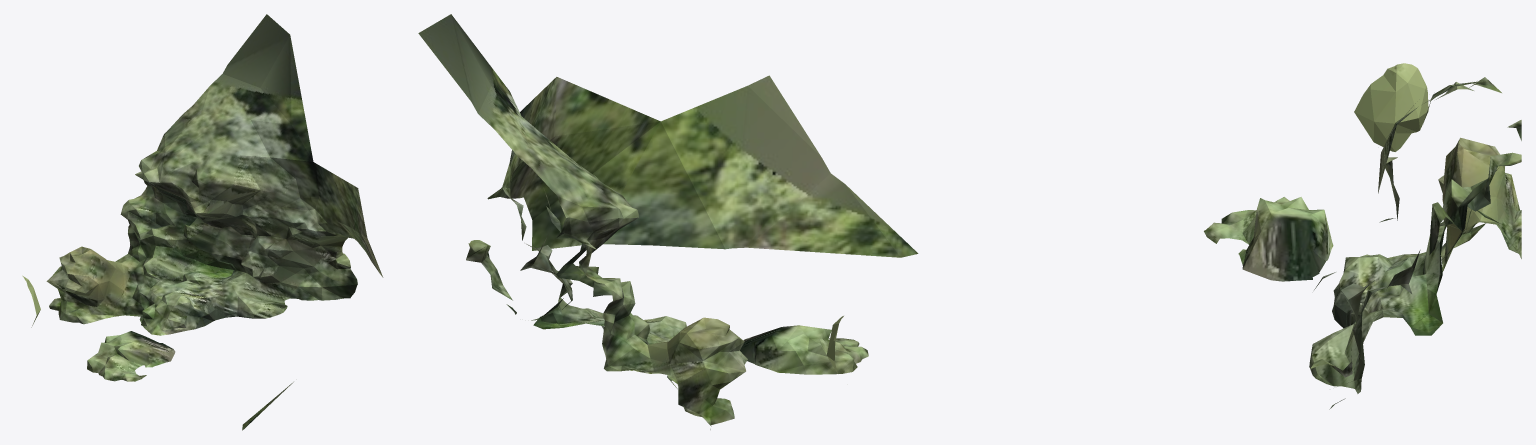
3 renders of one model, left to right at view 1: azimuth 30°, elevation 25°; view 2: azimuth 150°, elevation 25°; view 3: azimuth 270°, elevation 25°, orthographic. The views are drawn at different scales.
Size of the model in its own units: 26.11 by 20.13 by 26.11.
3 materials, 3 textured.
